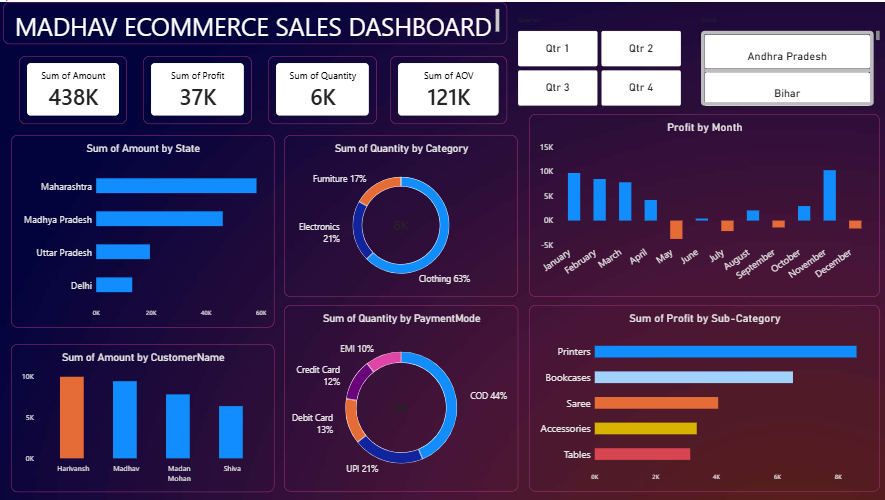

Layout of this report page (visuals, bound fields, positions):
{"tool":"powerbi","page":{"name":"Page 1","canvas":[1920,1080],"ordinal":0},"visuals":[{"type":"textbox","box":[10.8,0,1088.6,90.7],"z":0},{"type":"columnChart","title":"Profit by Month","fields":{"Category":["Orders.Order Date.Variation.Date Hierarchy.Month"],"Y":["Sum(Details.Profit)"]},"box":[1147,241.9,758.2,395.3],"z":1000},{"type":"barChart","fields":{"Category":["Details.Sub-Category"],"Y":["Sum(Details.Profit)"]},"box":[1146.5,655.1,758.4,403.1],"z":2000},{"type":"donutChart","fields":{"Category":["Details.Category"],"Y":["Sum(Details.Quantity)"]},"box":[617.8,287.3,505.4,349.9],"z":3000},{"type":"donutChart","fields":{"Category":["Details.PaymentMode"],"Y":["Sum(Details.Quantity)"]},"box":[617.3,655.1,506.5,403.1],"z":4000},{"type":"cardVisual","fields":{"Data":["Sum(Details.Amount)"]},"box":[45.4,116.6,233.3,146.9],"z":5000},{"type":"cardVisual","fields":{"Data":["Sum(Details.Profit)"]},"box":[313.2,116.6,235.4,146.9],"z":6000},{"type":"cardVisual","fields":{"Data":["Sum(Details.Quantity)"]},"box":[583.2,116.6,235.4,146.9],"z":7000},{"type":"cardVisual","fields":{"Data":["Sum(Details.AOV)"]},"box":[846.7,116.6,252.7,146.9],"z":8000},{"type":"barChart","fields":{"Category":["Orders.State"],"Y":["Sum(Details.Amount)"]},"box":[27.7,287.2,569.4,415.7],"z":9000},{"type":"columnChart","fields":{"Category":["Orders.CustomerName"],"Y":["Sum(Details.Amount)"]},"box":[27.7,738.3,569.4,320],"z":10000},{"type":"advancedSlicerVisual","fields":{"Values":["Orders.Order Date.Variation.Date Hierarchy.Quarter"]},"box":[1123.2,30.2,352.1,194.4],"z":11000},{"type":"advancedSlicerVisual","fields":{"Values":["Orders.State"]},"box":[1518.5,30.2,386.6,194.4],"z":12000}]}

Visuals, with their boxes in screenshot pixels (x1, y1, x2, y2), scaled from the page's 1920x1080 canvas onto the 885x500 screenshot:
textbox: <bbox>5, 0, 507, 42</bbox>
"Profit by Month" columnChart: <bbox>529, 112, 878, 295</bbox>
barChart - Details.Sub-Category x Sum(Details.Profit): <bbox>528, 303, 878, 490</bbox>
donutChart - Details.Category x Sum(Details.Quantity): <bbox>285, 133, 518, 295</bbox>
donutChart - Details.PaymentMode x Sum(Details.Quantity): <bbox>285, 303, 518, 490</bbox>
cardVisual - Sum(Details.Amount): <bbox>21, 54, 128, 122</bbox>
cardVisual - Sum(Details.Profit): <bbox>144, 54, 253, 122</bbox>
cardVisual - Sum(Details.Quantity): <bbox>269, 54, 377, 122</bbox>
cardVisual - Sum(Details.AOV): <bbox>390, 54, 507, 122</bbox>
barChart - Orders.State x Sum(Details.Amount): <bbox>13, 133, 275, 325</bbox>
columnChart - Orders.CustomerName x Sum(Details.Amount): <bbox>13, 342, 275, 490</bbox>
advancedSlicerVisual - Orders.Order Date.Variation.Date Hierarchy.Quarter: <bbox>518, 14, 680, 104</bbox>
advancedSlicerVisual - Orders.State: <bbox>700, 14, 878, 104</bbox>
